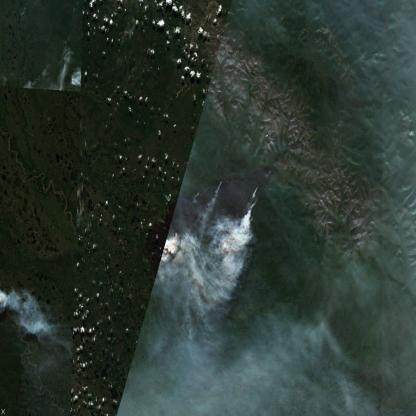fire: (148, 174, 262, 259)
